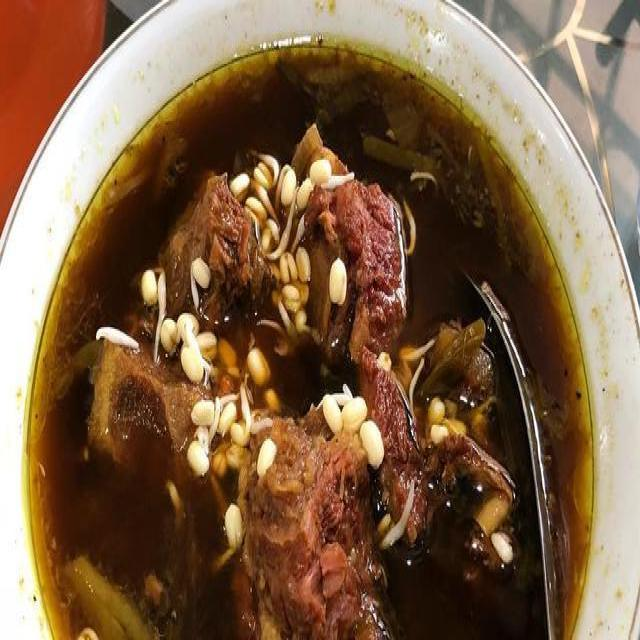Rawon: (89, 54, 568, 638)
